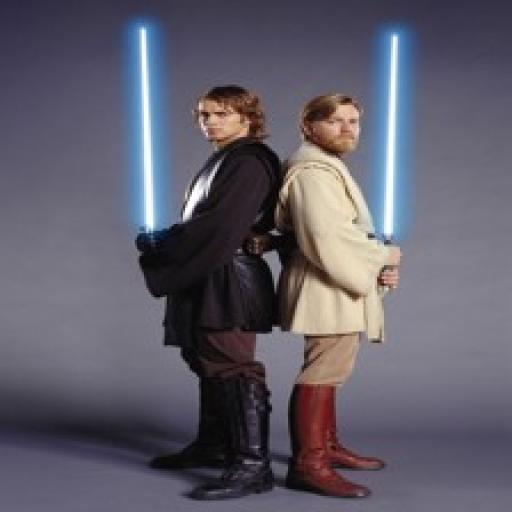human: (124, 77, 282, 507), (282, 80, 398, 500)
lightsaber: (133, 24, 161, 279), (382, 29, 397, 295)
